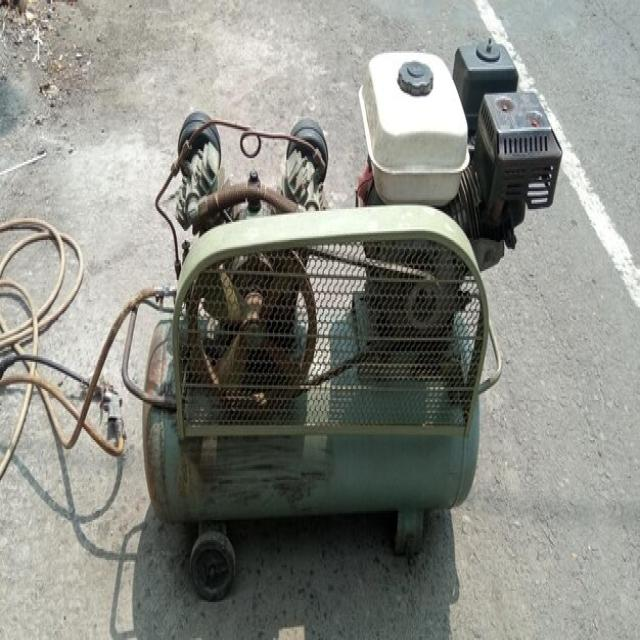compressor: (131, 24, 564, 586)
